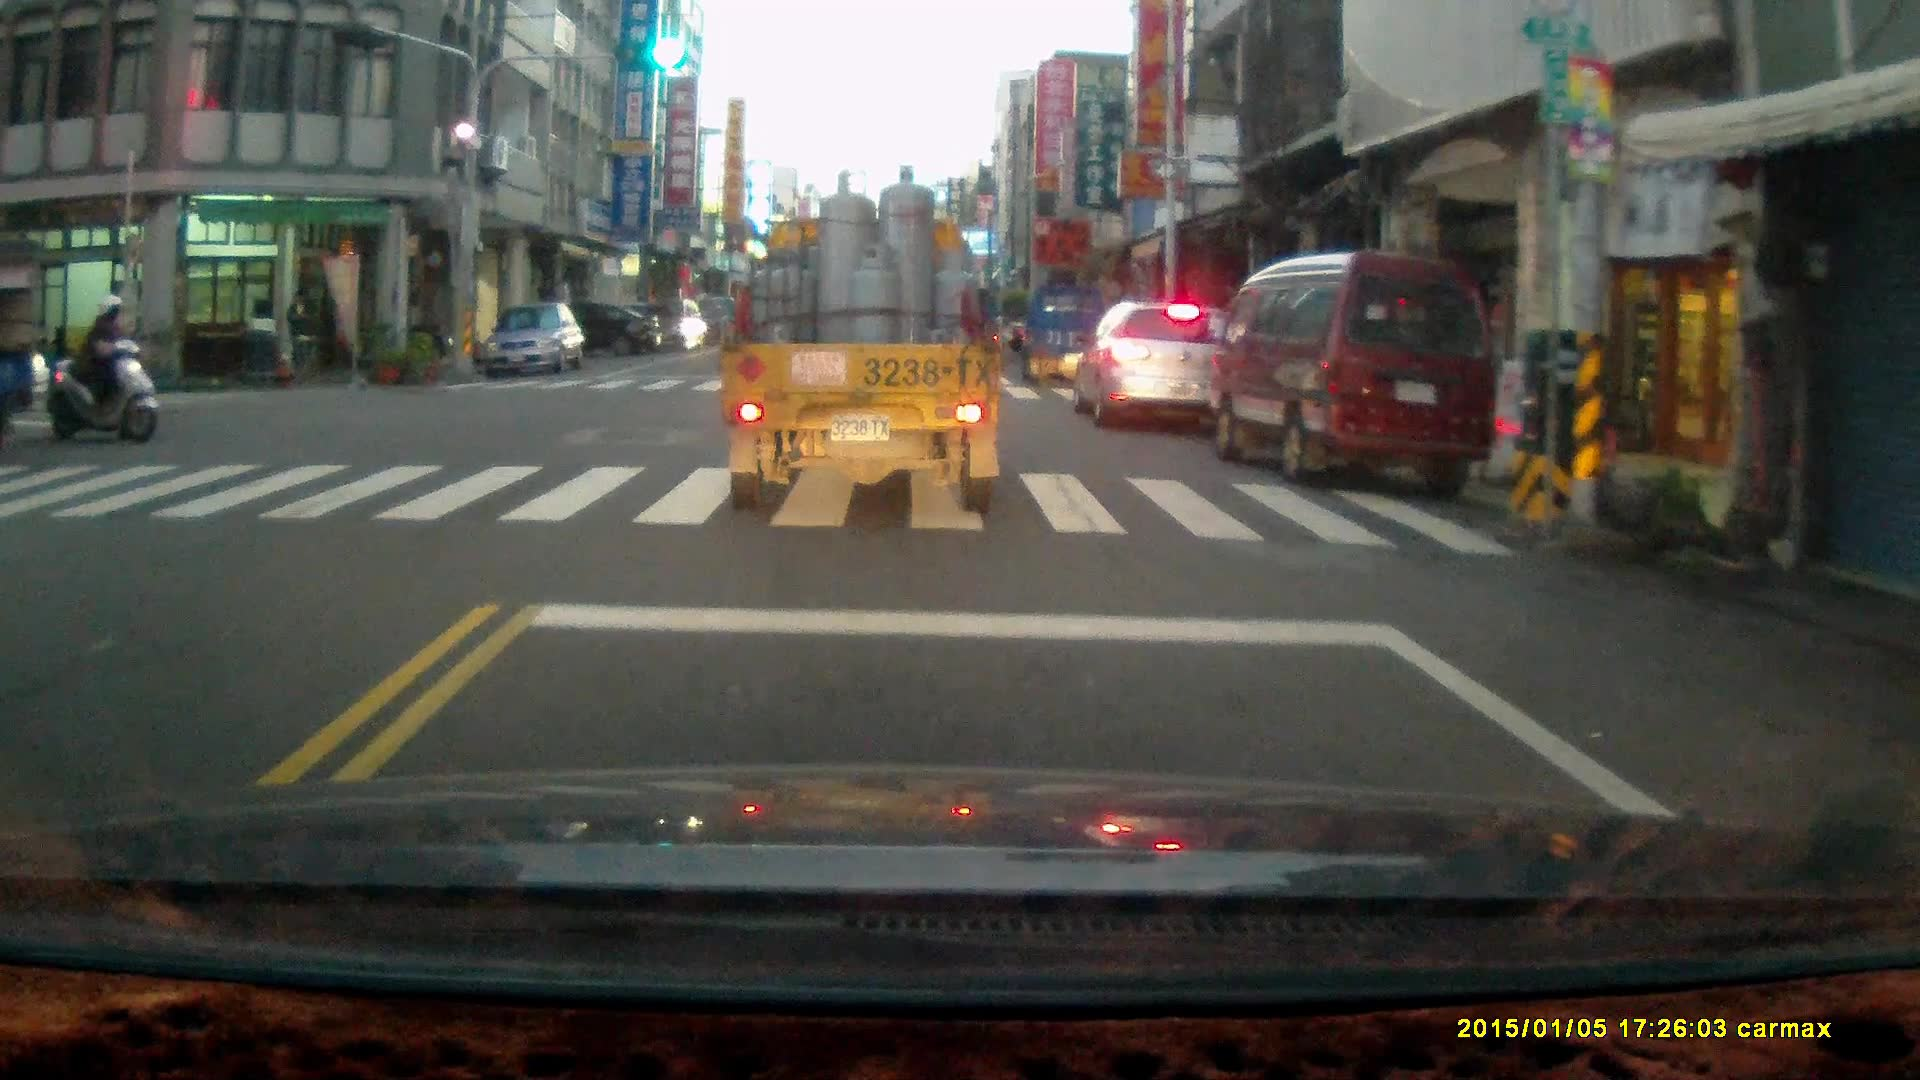pedestrian: (283, 281, 317, 385)
rider: (42, 294, 159, 442)
vehicle: (721, 162, 1003, 511), (1218, 246, 1507, 490), (1072, 289, 1250, 435), (1023, 281, 1114, 386), (522, 297, 659, 359), (481, 301, 587, 381), (616, 299, 707, 352)
